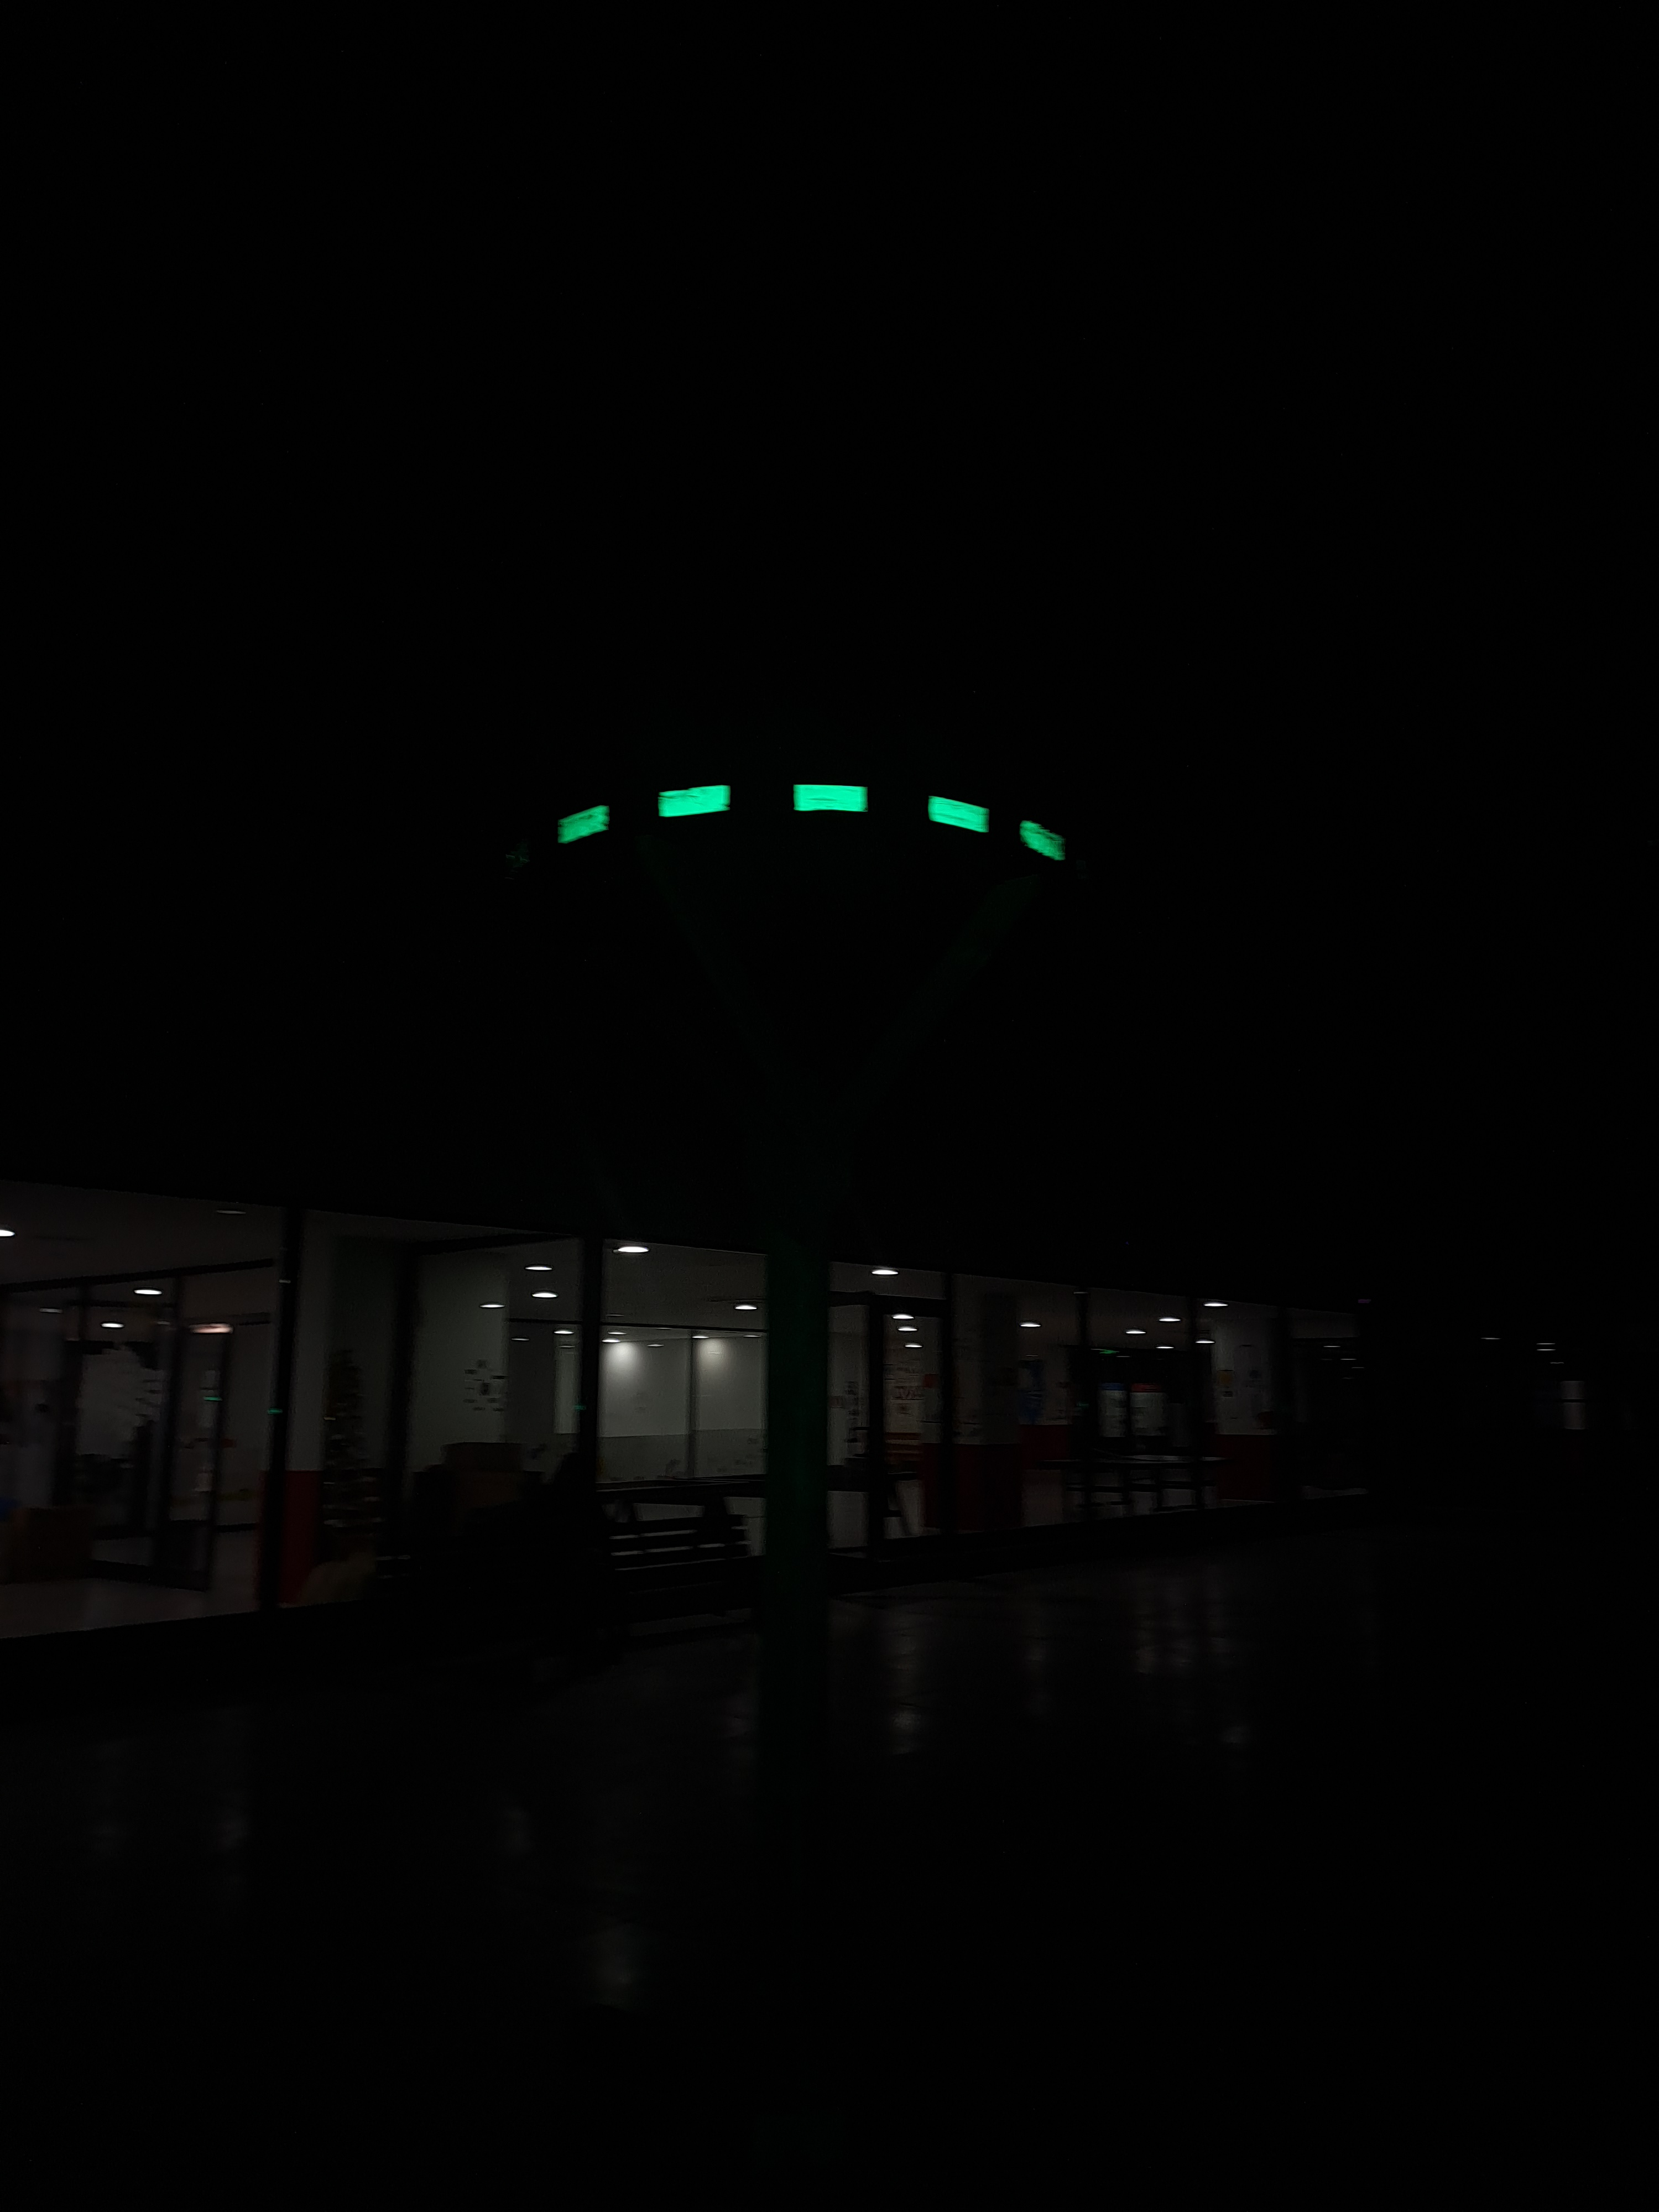hoop: (537, 766, 1072, 869)
